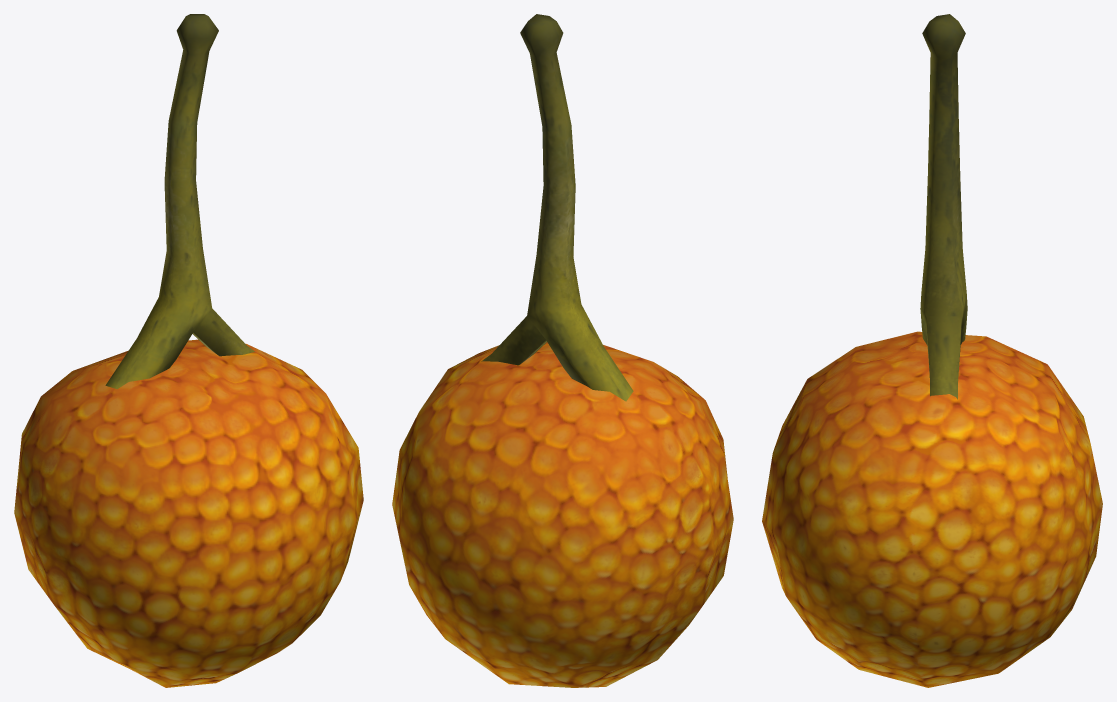
The model's file is Debregeasia_Fruit.fbx.
3 renders of one model, left to right at view 1: azimuth 30°, elevation 25°; view 2: azimuth 150°, elevation 25°; view 3: azimuth 270°, elevation 25°, orthographic. The views are drawn at different scales.
Visible parts, largest first — view 1: Fruit_LOD0; view 2: Fruit_LOD0; view 3: Fruit_LOD0.
Part boxes in pixels (left/top/right/bottom): Fruit_LOD0: left=14, top=14, right=363, bottom=687; Fruit_LOD0: left=392, top=14, right=733, bottom=687; Fruit_LOD0: left=762, top=14, right=1102, bottom=687.
Size of what is drawn, in the model's own units: 11.99 by 25.02 by 11.61.
Materials: 1 (1 with a texture image).
